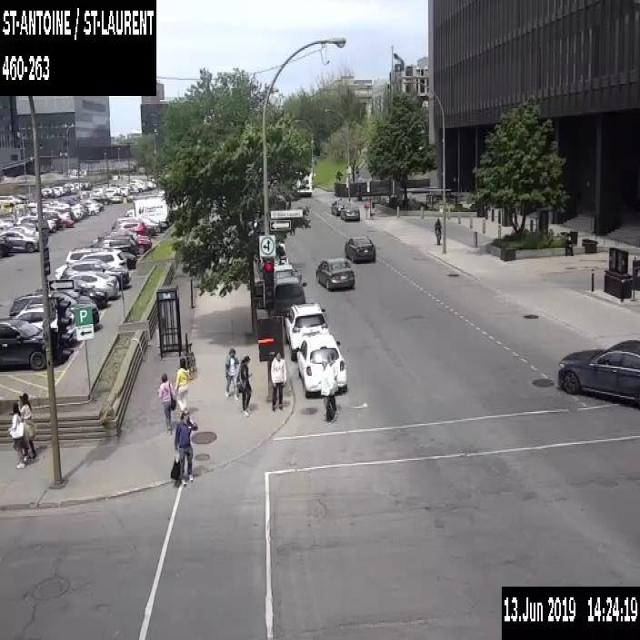bus: (292, 170, 312, 194)
construction: (363, 201, 369, 219)
pedestrian: (170, 408, 198, 487), (6, 401, 26, 468), (156, 371, 176, 434), (18, 392, 36, 458), (318, 359, 336, 420), (235, 354, 253, 415), (270, 348, 287, 409), (173, 357, 190, 410), (224, 347, 240, 399), (434, 214, 441, 247)
vehicle: (557, 338, 639, 410), (296, 332, 346, 397), (10, 290, 99, 323), (0, 317, 57, 367), (283, 301, 328, 360), (55, 248, 126, 278), (60, 257, 128, 288), (12, 305, 72, 339), (268, 275, 307, 325), (124, 192, 168, 232), (68, 269, 119, 298), (97, 227, 151, 254), (316, 256, 354, 289), (72, 278, 108, 308), (89, 233, 137, 255), (65, 246, 115, 267), (35, 287, 94, 302), (344, 235, 376, 262), (0, 229, 39, 251), (111, 216, 157, 233), (15, 214, 56, 231), (273, 263, 297, 283), (53, 206, 74, 228), (19, 216, 49, 231), (116, 220, 146, 233), (141, 214, 161, 233), (273, 240, 288, 265), (7, 224, 37, 236), (42, 210, 62, 228), (340, 203, 359, 220), (79, 197, 103, 210), (0, 234, 11, 258), (122, 250, 136, 268), (0, 194, 21, 206), (81, 200, 98, 214), (90, 192, 109, 204), (31, 202, 53, 212), (330, 199, 344, 214), (70, 203, 82, 220), (0, 216, 15, 229), (58, 194, 77, 204), (102, 187, 118, 197), (14, 193, 29, 203), (49, 200, 70, 207), (110, 192, 123, 202), (40, 186, 53, 196), (63, 182, 75, 192), (92, 184, 105, 193), (52, 184, 64, 193), (26, 200, 36, 210), (119, 185, 129, 195), (126, 192, 137, 201), (108, 185, 120, 193), (80, 180, 90, 188), (73, 181, 84, 188), (53, 187, 61, 196), (80, 190, 88, 197)
